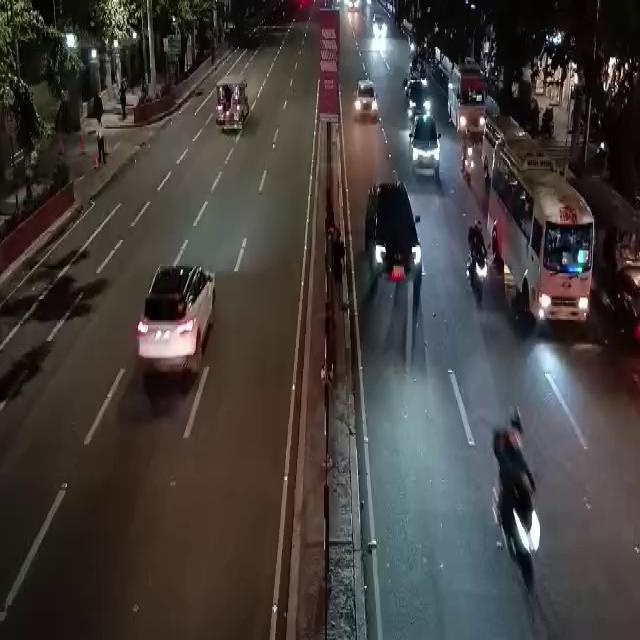bus: (496, 143, 595, 329), (447, 68, 488, 126)
car: (139, 256, 216, 402), (355, 187, 420, 305), (403, 117, 439, 177), (397, 80, 431, 124), (350, 81, 379, 122), (370, 16, 386, 38)
jeepney: (209, 75, 248, 136)
motorcycle: (478, 426, 558, 600), (463, 210, 495, 316)
